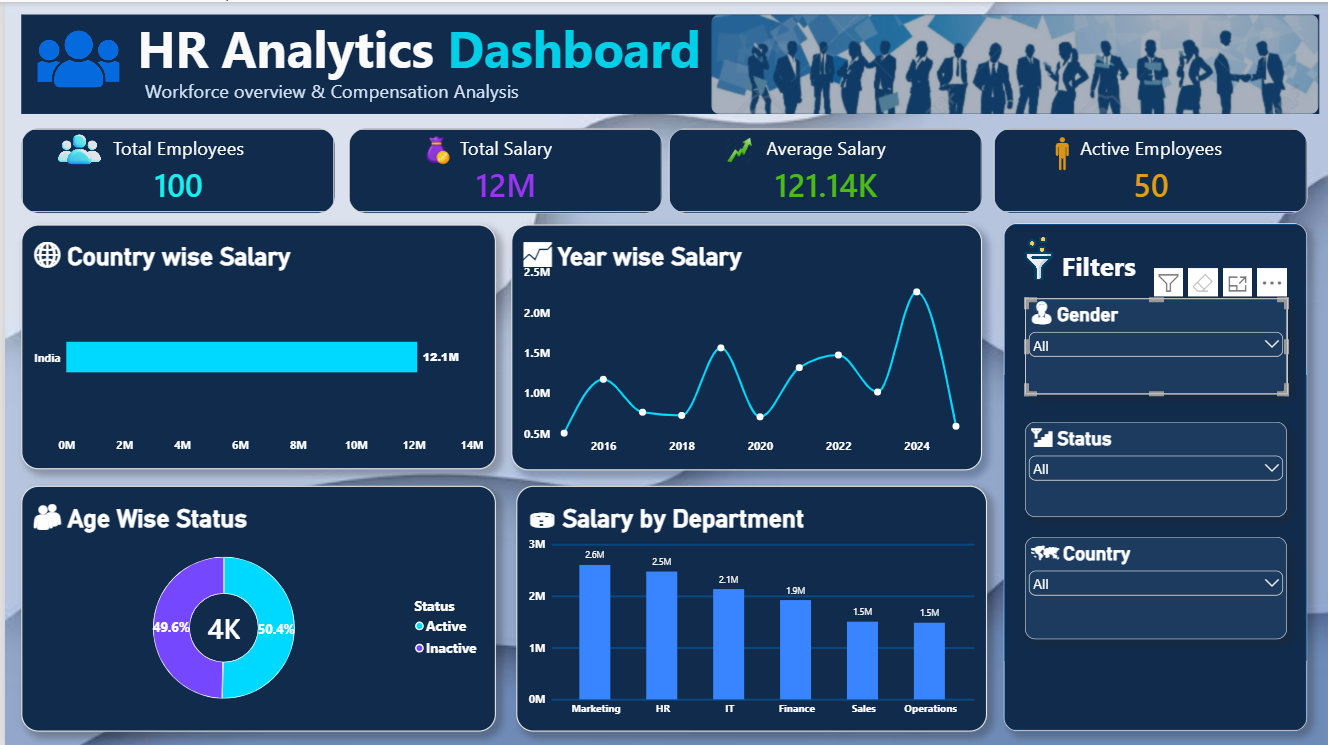

This screenshot's page, from the dashboard's own definition file:
{"tool":"powerbi","page":{"name":"Page 2","canvas":[1920,1080],"ordinal":0},"visuals":[{"type":"textbox","box":[22.9,18.8,1879.2,143.8],"z":0},{"type":"textbox","box":[202.1,110.4,589.6,37.5],"z":1},{"type":"image","box":[47.9,18.8,118.8,129.2],"z":2},{"type":"image","box":[1022.9,18.8,879.2,143.8],"z":3},{"type":"barChart","title":"🌐︎ Country wise Salary","fields":{"Category":["HR_Sample_Dataset.Country"],"Y":["Sum(HR_Sample_Dataset.Salary)"]},"box":[22.9,322.9,687.5,354.2],"z":4},{"type":"donutChart","title":"👥︎ Age Wise Status","fields":{"Category":["HR_Sample_Dataset.Status"],"Y":["Sum(HR_Sample_Dataset.Age)"]},"box":[22.9,700,687.5,356.2],"z":5},{"type":"lineChart","title":"📈︎ Year wise Salary","fields":{"Category":["HR_Sample_Dataset.DateOfJoining.Variation.Date Hierarchy.Year"],"Y":["Sum(HR_Sample_Dataset.Salary)"]},"box":[733.3,322.9,681.2,356.2],"z":6},{"type":"clusteredColumnChart","title":"⛁ Salary by Department","fields":{"Category":["HR_Sample_Dataset.Department"],"Y":["Sum(HR_Sample_Dataset.Salary)"]},"box":[739.6,700,681.2,356.2],"z":7},{"type":"shape","box":[1445.8,320.8,439.6,735.4],"z":8},{"type":"textbox","box":[1445.8,356.2,439.6,60.4],"z":9},{"type":"image","box":[1462.5,339.6,68.8,62.5],"z":10},{"type":"slicer","fields":{"Values":["HR_Sample_Dataset.Gender"]},"box":[1477.1,429.2,379.2,139.6],"z":11},{"type":"slicer","fields":{"Values":["HR_Sample_Dataset.Country"]},"box":[1477.1,775,379.2,147.9],"z":12},{"type":"slicer","fields":{"Values":["HR_Sample_Dataset.Status"]},"box":[1477.1,608.3,379.2,137.5],"z":13},{"type":"cardVisual","fields":{"Data":["HR_Sample_Dataset.Total Employees"]},"box":[22.9,183.3,454.2,122.9],"z":14},{"type":"image","box":[60.4,183.3,95.8,62.5],"z":18},{"type":"cardVisual","fields":{"Data":["HR_Sample_Dataset.Total Salary"]},"box":[497.9,183.3,454.2,122.9],"z":19},{"type":"cardVisual","fields":{"Data":["HR_Sample_Dataset.Average Salary"]},"box":[960.4,183.3,454.2,122.9],"z":20},{"type":"cardVisual","fields":{"Data":["HR_Sample_Dataset.Active Employees"]},"box":[1431.2,183.3,454.2,122.9],"z":21},{"type":"image","box":[575,183.3,102.1,62.5],"z":22},{"type":"image","box":[1004.2,193.8,118.8,41.7],"z":23},{"type":"image","box":[1450,193.8,162.5,52.1],"z":24}]}

Visuals, with their boxes in screenshot pixels (x1, y1, x2, y2), scaled from the page's 1920x1080 canvas onto the 1328x745 screenshot:
textbox: box=[16, 13, 1316, 112]
textbox: box=[140, 76, 548, 102]
image: box=[33, 13, 115, 102]
image: box=[708, 13, 1316, 112]
"🌐︎ Country wise Salary" barChart: box=[16, 223, 491, 467]
"👥︎ Age Wise Status" donutChart: box=[16, 483, 491, 729]
"📈︎ Year wise Salary" lineChart: box=[507, 223, 978, 468]
"⛁ Salary by Department" clusteredColumnChart: box=[512, 483, 983, 729]
shape: box=[1000, 221, 1304, 729]
textbox: box=[1000, 246, 1304, 287]
image: box=[1012, 234, 1059, 277]
slicer - HR_Sample_Dataset.Gender: box=[1022, 296, 1284, 392]
slicer - HR_Sample_Dataset.Country: box=[1022, 535, 1284, 637]
slicer - HR_Sample_Dataset.Status: box=[1022, 420, 1284, 514]
cardVisual - HR_Sample_Dataset.Total Employees: box=[16, 126, 330, 211]
image: box=[42, 126, 108, 170]
cardVisual - HR_Sample_Dataset.Total Salary: box=[344, 126, 659, 211]
cardVisual - HR_Sample_Dataset.Average Salary: box=[664, 126, 978, 211]
cardVisual - HR_Sample_Dataset.Active Employees: box=[990, 126, 1304, 211]
image: box=[398, 126, 468, 170]
image: box=[695, 134, 777, 162]
image: box=[1003, 134, 1115, 170]
